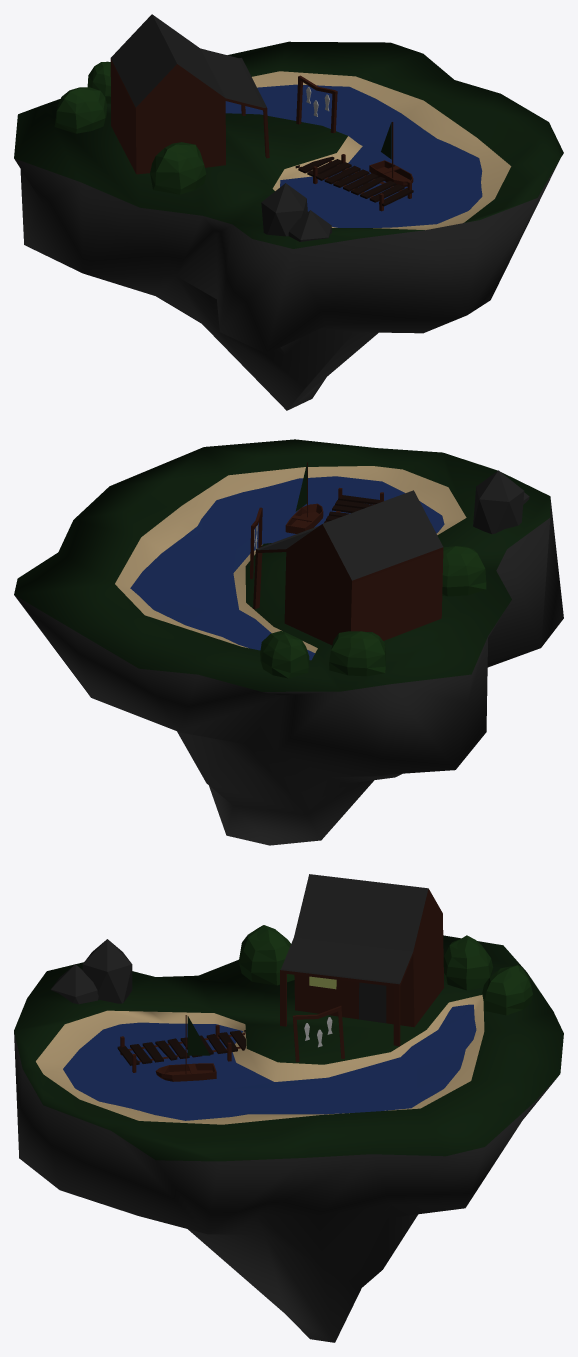
The model's file is island_lake.obj.
The picture shows the model from 3 angles, top to bottom: view 1: azimuth 30°, elevation 25°; view 2: azimuth 150°, elevation 25°; view 3: azimuth 270°, elevation 25°; orthographic projection. The views are drawn at different scales.
Parts seen in each view (by area): view 1: Mesh2_Model.001_Mesh2_Model.005; view 2: Mesh2_Model.001_Mesh2_Model.005; view 3: Mesh2_Model.001_Mesh2_Model.005.
Boxes of the visible parts, x1=… form: Mesh2_Model.001_Mesh2_Model.005: x1=14, y1=14, x2=563, y2=410; Mesh2_Model.001_Mesh2_Model.005: x1=14, y1=439, x2=563, y2=845; Mesh2_Model.001_Mesh2_Model.005: x1=14, y1=874, x2=563, y2=1342.
Bounding box in the file's own units: 50.14 × 40.42 × 50.88.
